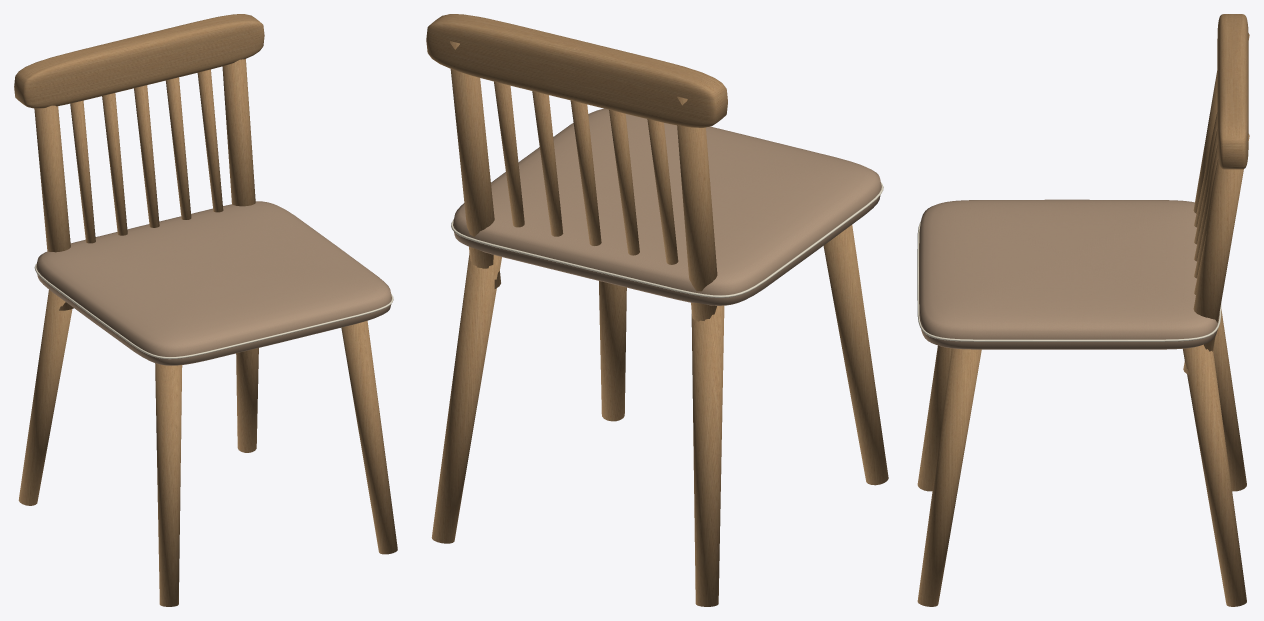
Rendered from country.dining_chair.gltf.
3 renders of one model, left to right at view 1: azimuth 30°, elevation 25°; view 2: azimuth 150°, elevation 25°; view 3: azimuth 270°, elevation 25°, orthographic. The views are drawn at different scales.
Visible parts, largest first — view 1: country.dining_chair.leg; view 2: country.dining_chair.leg; view 3: country.dining_chair.leg.
Boxes of the visible parts, x1,y1,x2,y2 form: country.dining_chair.leg: [14, 14, 397, 606]; country.dining_chair.leg: [426, 14, 888, 606]; country.dining_chair.leg: [917, 14, 1249, 606].
Bounding box in the file's own units: 0.4799 × 0.8045 × 0.5064.
Materials: 3 (2 with a texture image).
